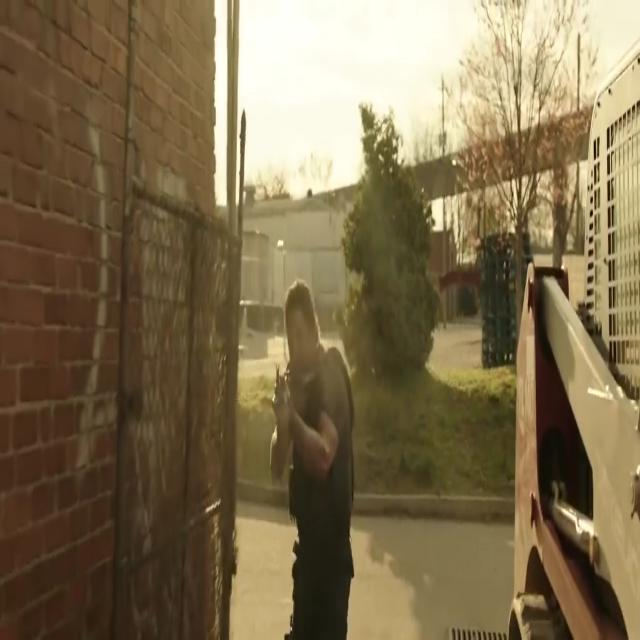Weapon: (266, 352, 310, 455)
